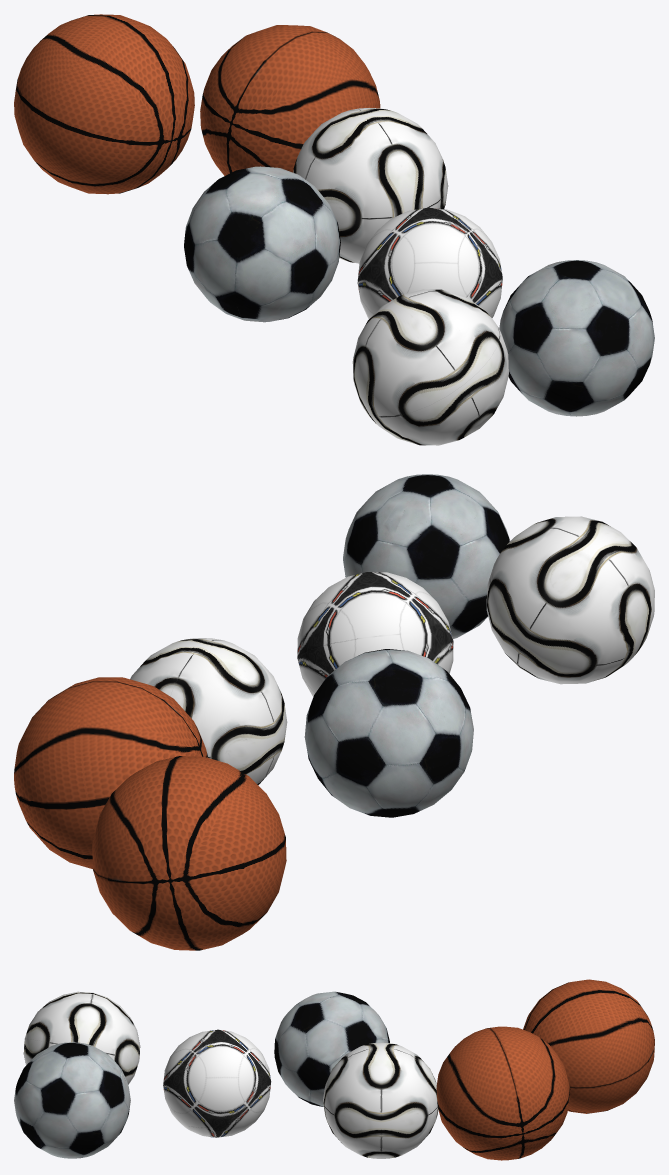
File: SportBall01_05.FBX
3 views of the same model, one above another, from view 1: azimuth 30°, elevation 25°; view 2: azimuth 150°, elevation 25°; view 3: azimuth 270°, elevation 25° (orthographic). The views are drawn at different scales.
Visible parts, largest first — view 1: BallsGroup1_LOD0; view 2: BallsGroup1_LOD0; view 3: BallsGroup1_LOD0.
Boxes of the visible parts, x1=… form: BallsGroup1_LOD0: x1=14, y1=14, x2=654, y2=445; BallsGroup1_LOD0: x1=14, y1=474, x2=654, y2=950; BallsGroup1_LOD0: x1=14, y1=979, x2=654, y2=1160.
Size of what is drawn, in the model's own units: 606 by 329 by 1567.
